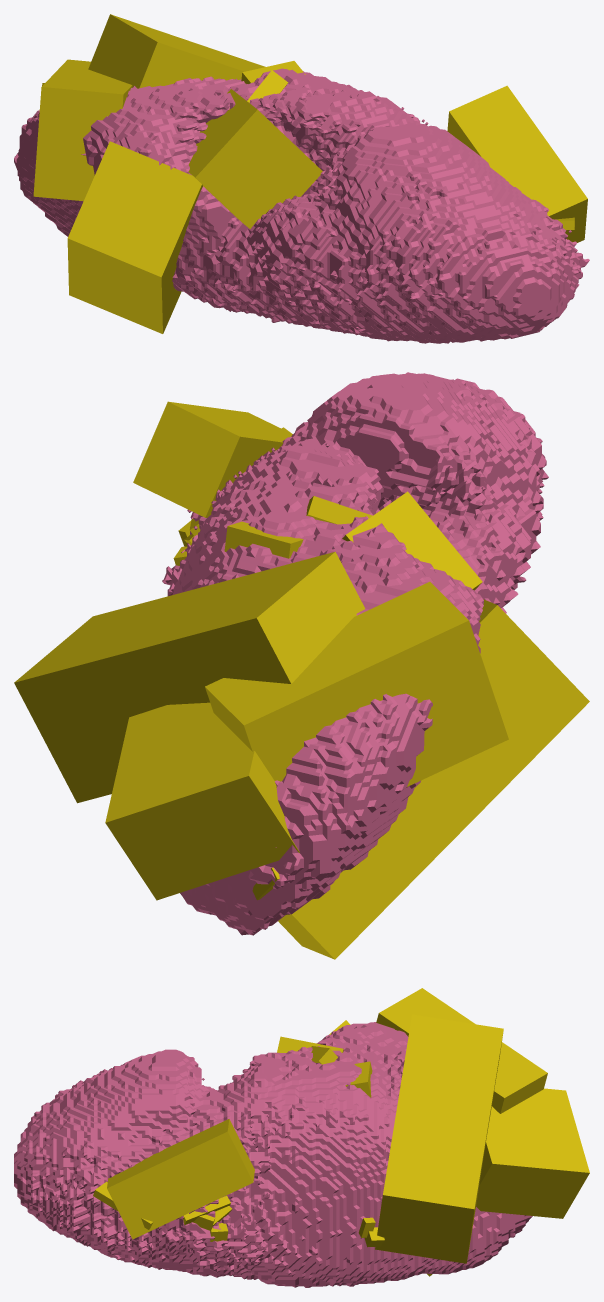
The model's file is concensus_with_male_projected_tbs.glb.
3 renders of one model, top to bottom at view 1: azimuth 30°, elevation 25°; view 2: azimuth 150°, elevation 25°; view 3: azimuth 270°, elevation 25°, orthographic. The views are drawn at different scales.
Visible parts, largest first — view 1: world; view 2: world; view 3: world.
Boxes of the visible parts, x1=… form: world: x1=14, y1=14, x2=589, y2=343; world: x1=14, y1=372, x2=589, y2=959; world: x1=14, y1=988, x2=589, y2=1287.
Bounding box in the file's own units: 99.2 × 70.78 × 144.
